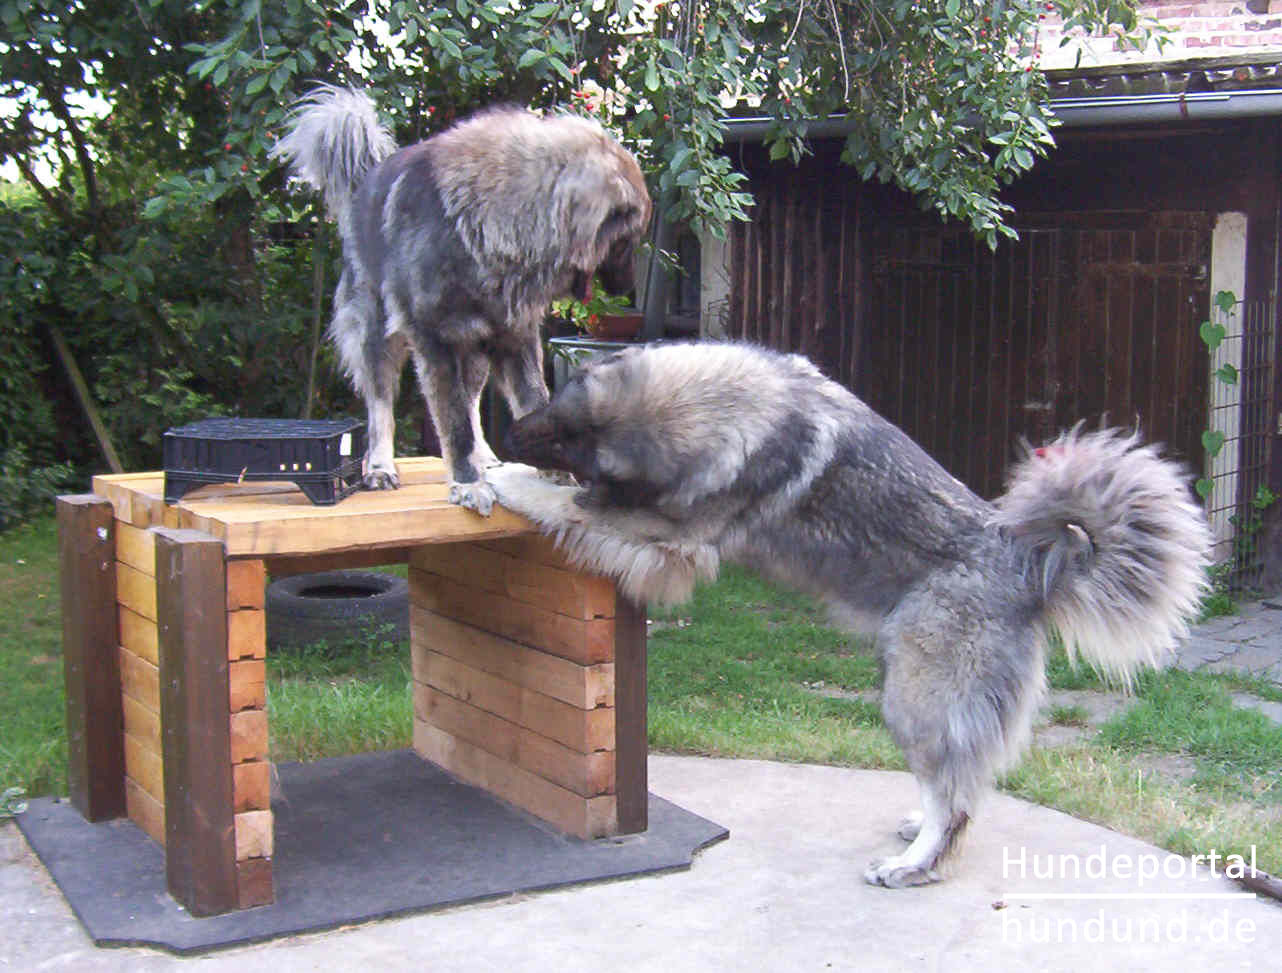cau_ovcharka: (490, 341, 1215, 890), (263, 77, 651, 521)
